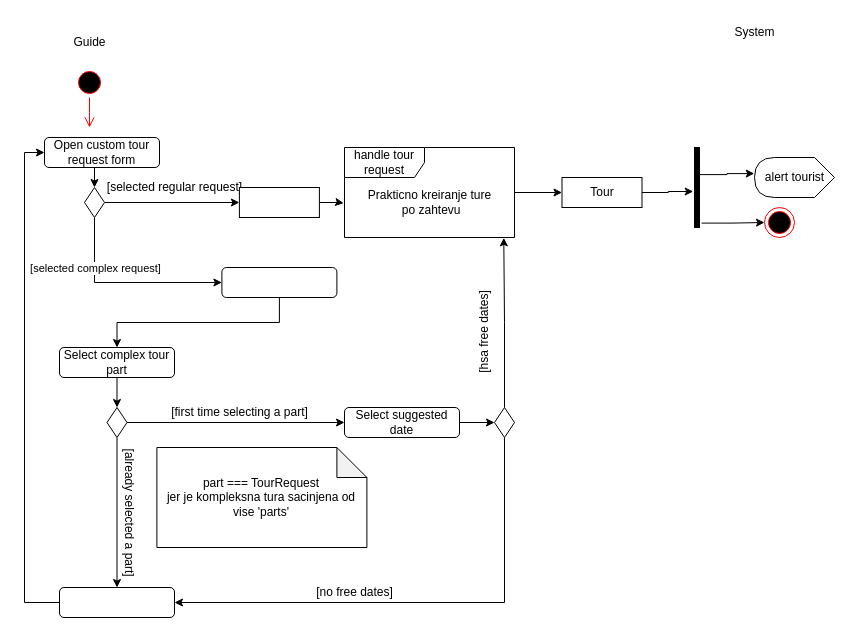
This 852x635 diagram has some shape labels left out. The shapes that lost their labels are listed below. From the top down, each one's centre as x and y in pixels, then its label:
the point at 278,202: TourRequest
the point at 279,282: Get all complex tour parts
the point at 116,602: Warn user
